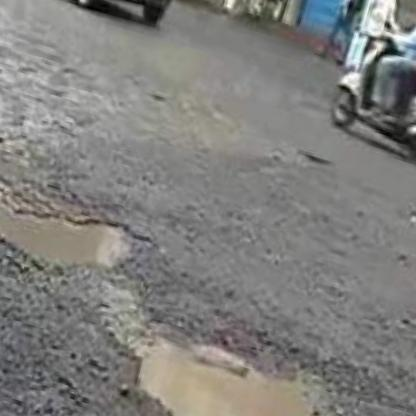pothole: (116, 302, 351, 416), (0, 154, 154, 284)
